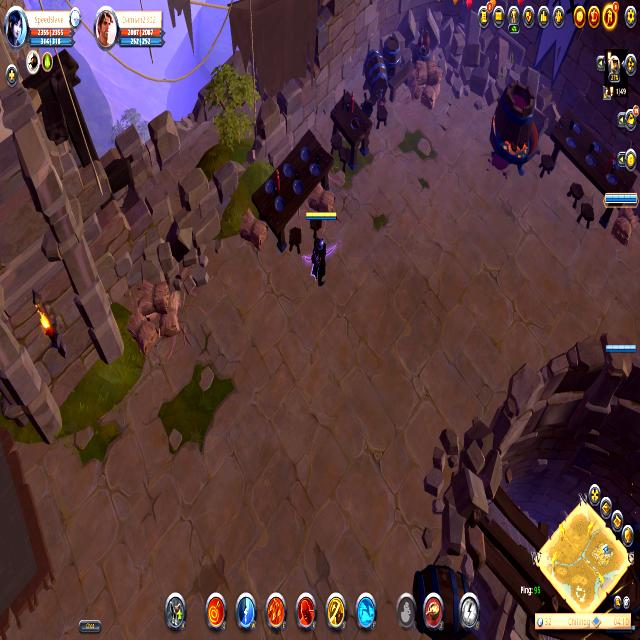red: (301, 206, 339, 289), (600, 187, 640, 213), (603, 343, 639, 355)
